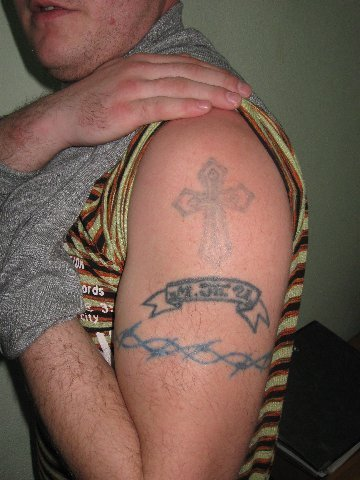tatu9_krest: (171, 153, 268, 268)
